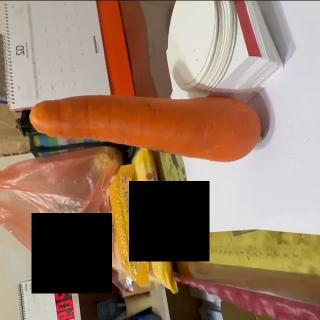carrot: (28, 88, 264, 164)
